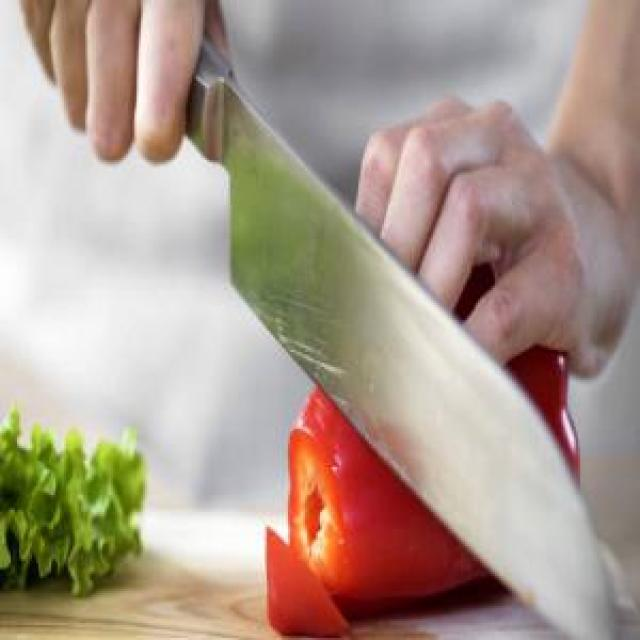knife: (70, 0, 638, 638)
